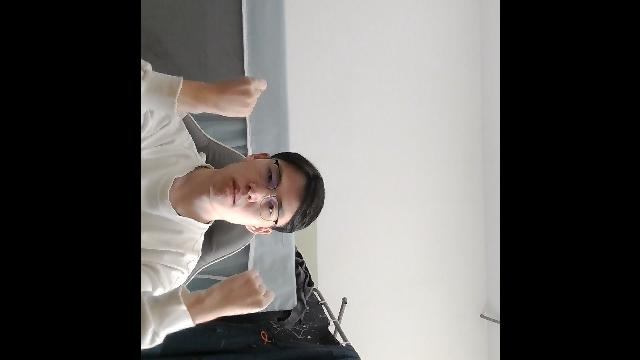ten: (197, 267, 275, 321), (195, 74, 268, 118)
